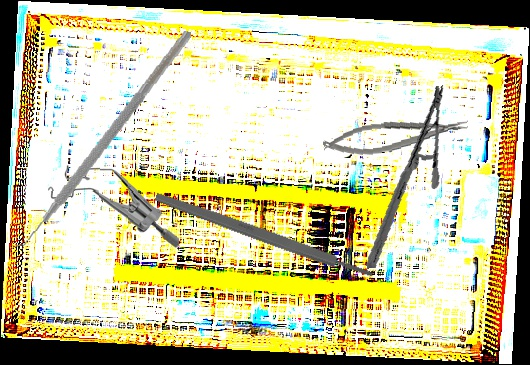Chopper: (0, 14, 192, 263)
Needle Holder: (343, 85, 468, 269), (321, 113, 471, 160)
Scalpel Handle: (153, 190, 375, 282)
Speculum: (45, 163, 182, 249)
